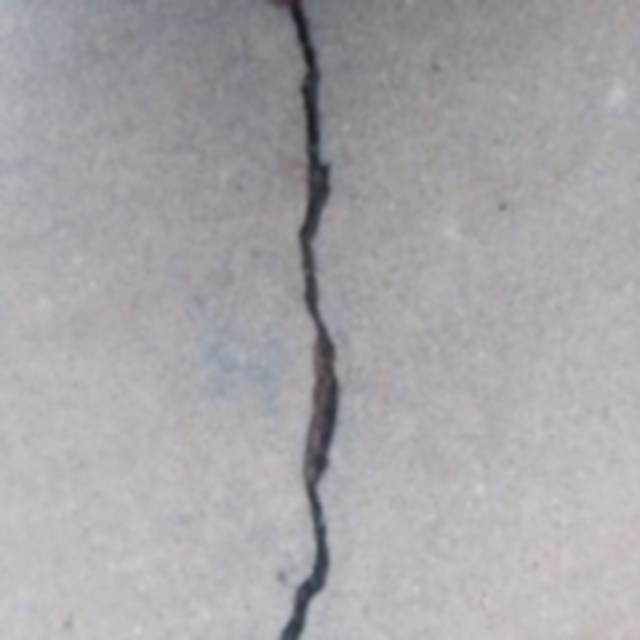SurfaceCrack: (250, 10, 368, 626)
